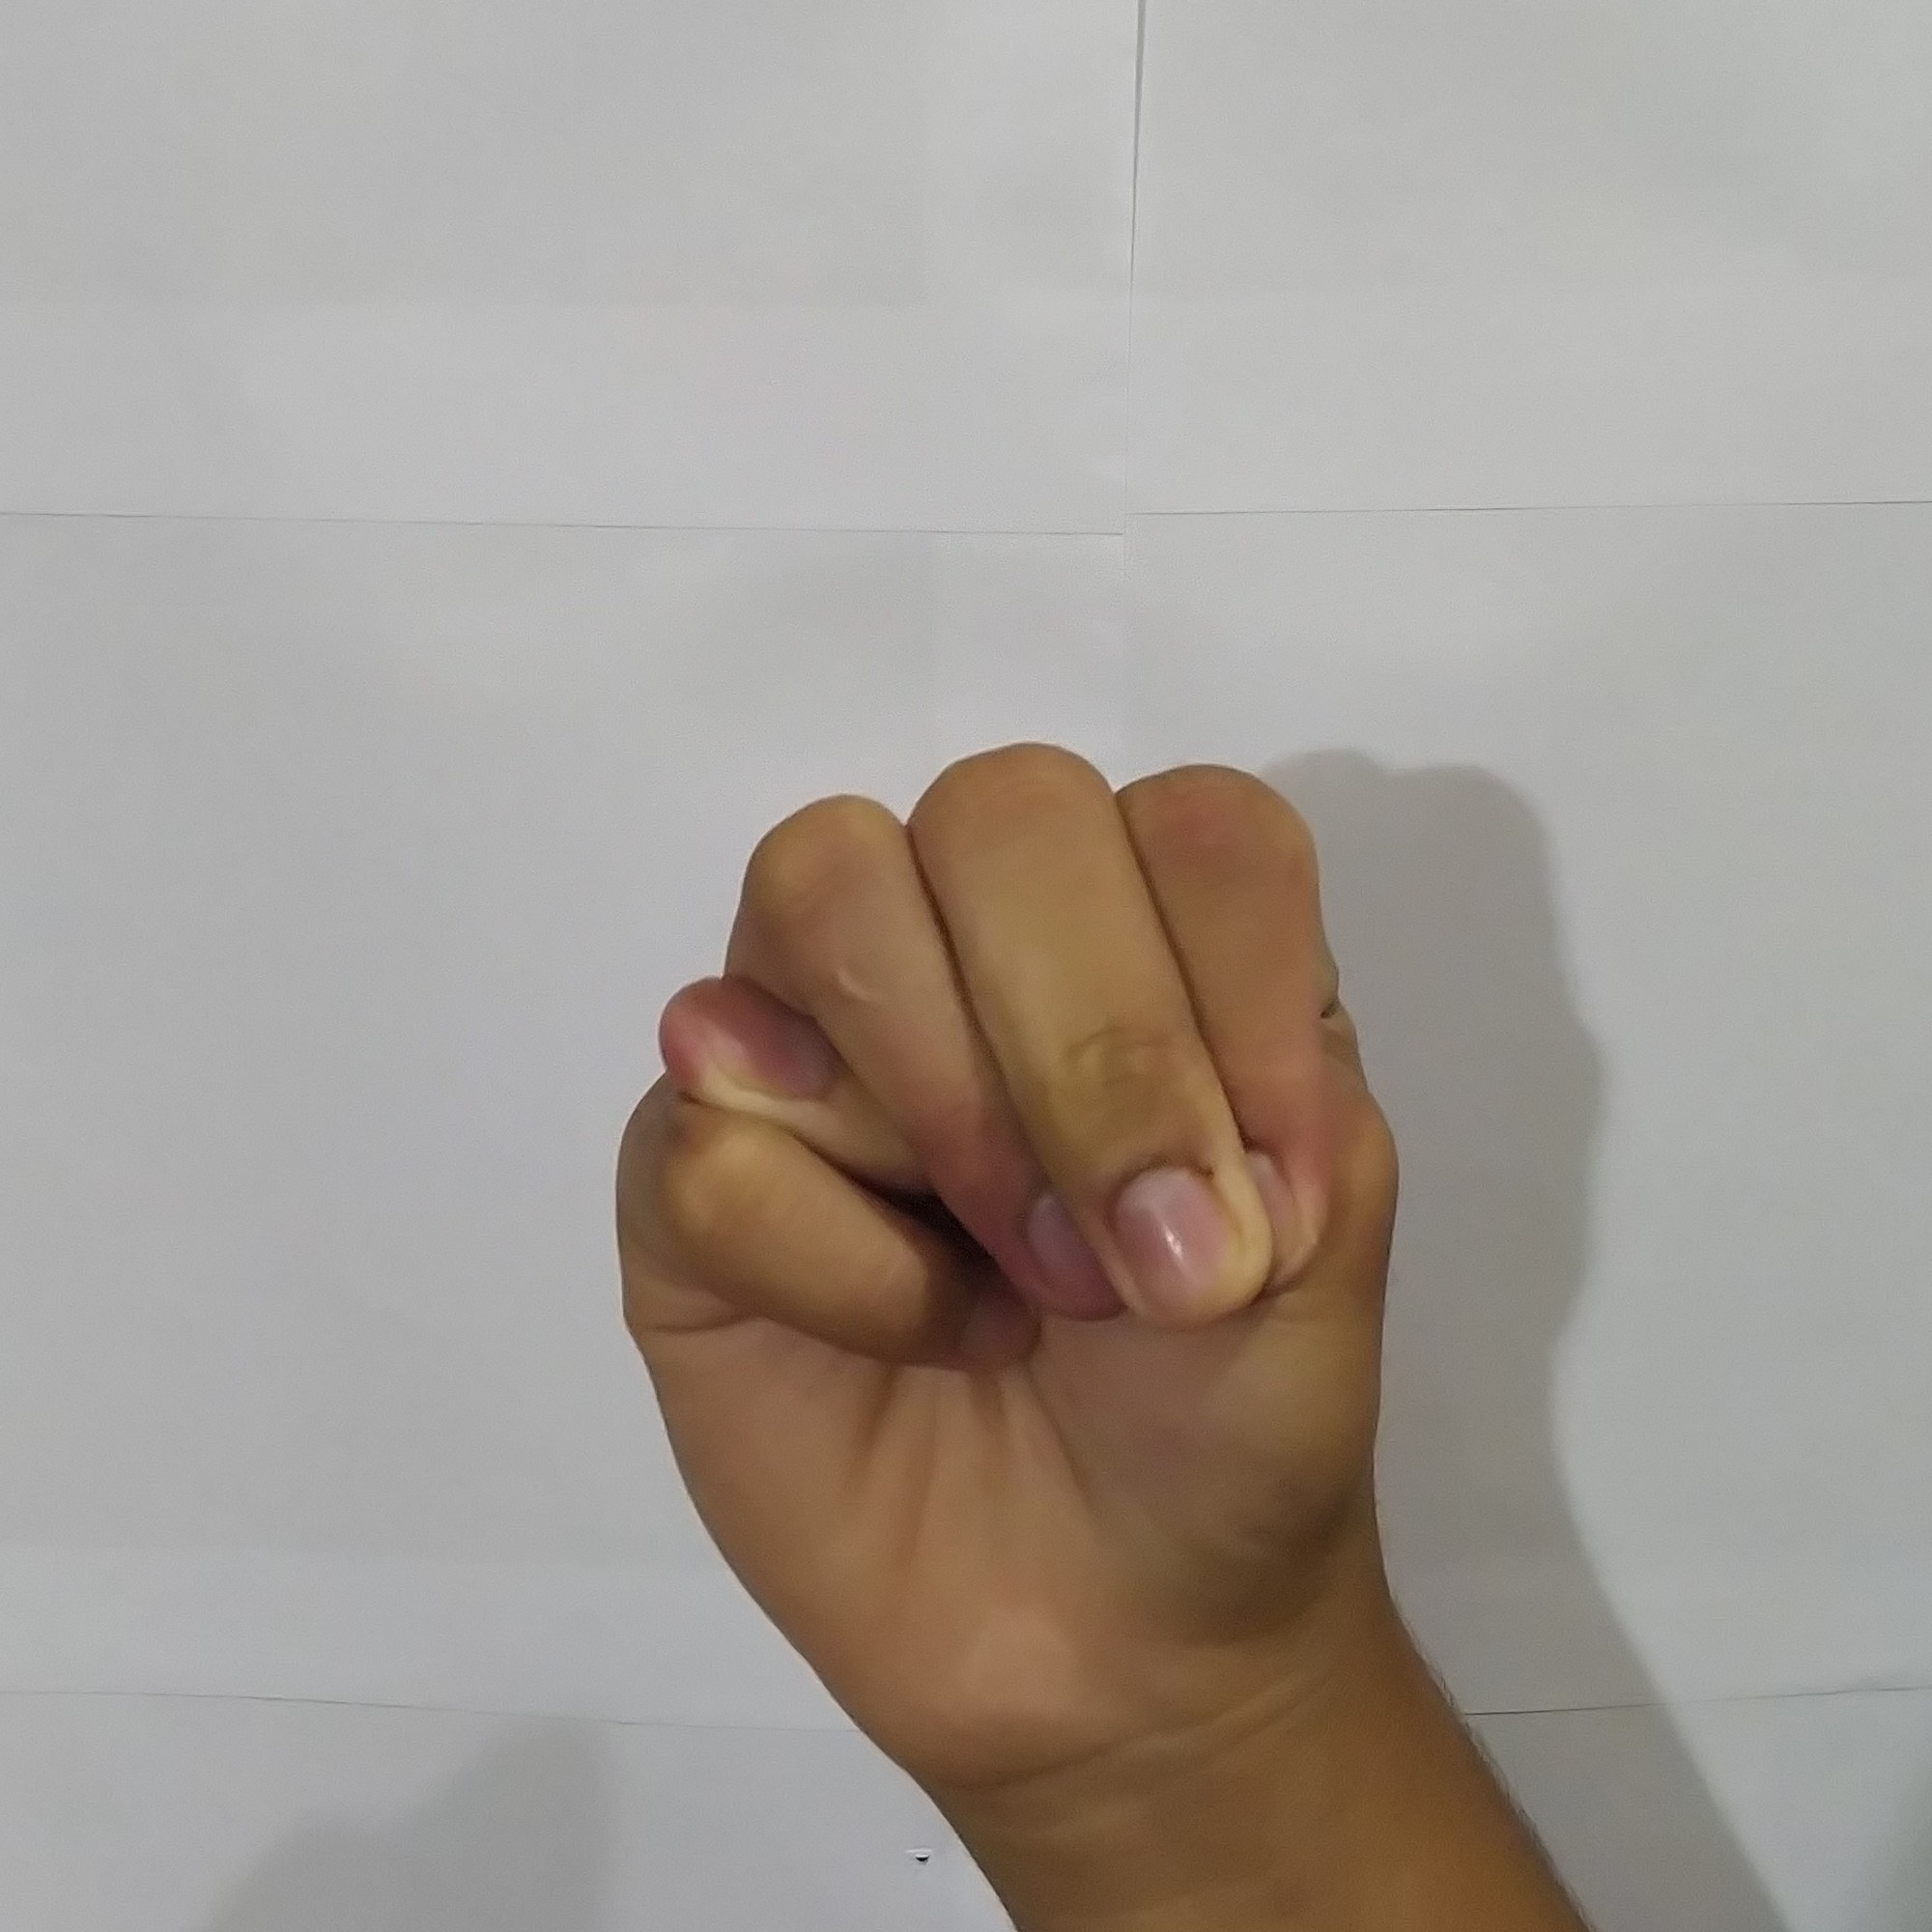M: (584, 713, 1440, 1706)
